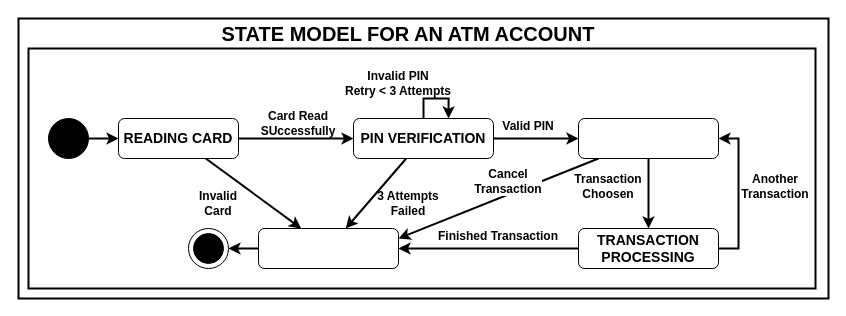
The diagram is 846 pixels wide and 316 high, and some of its shapes have lost their labels. Each missing label, with the box of its shape:
CARD EJECTED: (258, 228, 398, 268)
TRANSACTION SELECTION: (578, 118, 718, 158)
